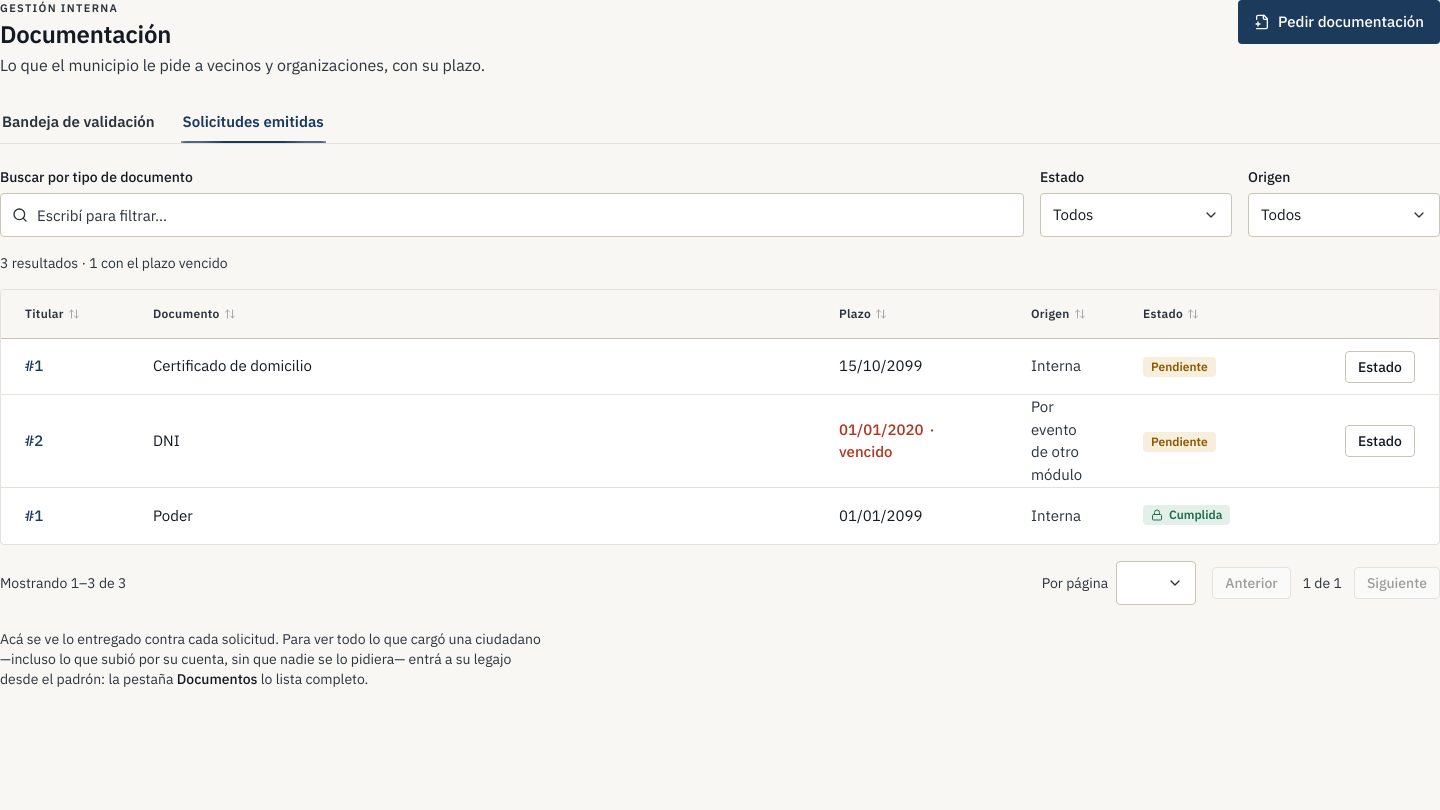
cambio de estado de una solicitud › no deja cumplirla desde acá: la cumple el titular al entregar
This screenshot has width=1440, height=810.
Expected: the text "Certificado de domicilio" is shown, [129,338,815,394]
Click the button "Estado" in the row of "Certificado de domicilio" at (1380,366), box [1345,350,1415,382]
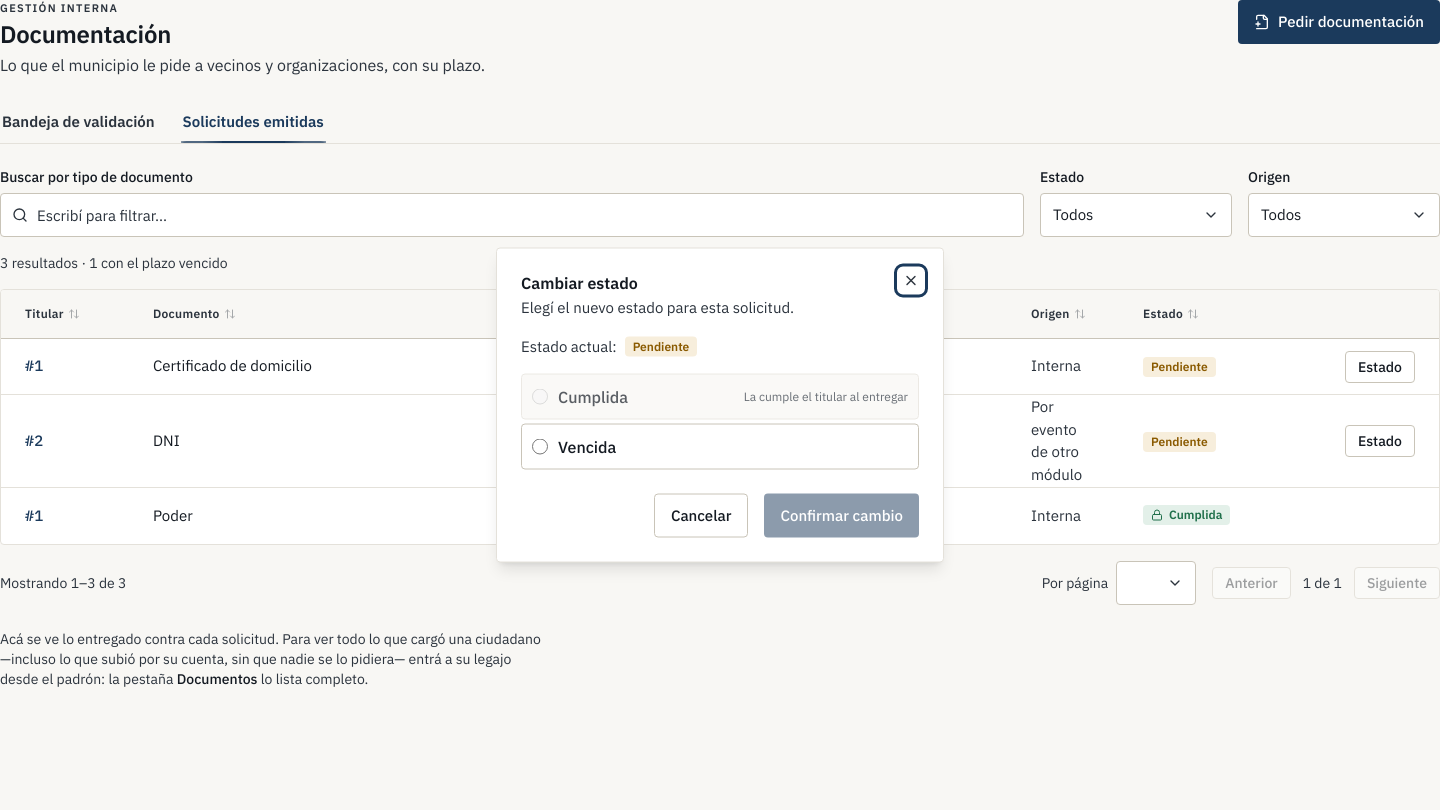
Expected: the radio button labelled "Cumplida La cumple el titular al entregar" is disabled, [532,388,548,404]
Expected: the text "La cumple el titular al entregar" is shown, [744,388,908,404]
